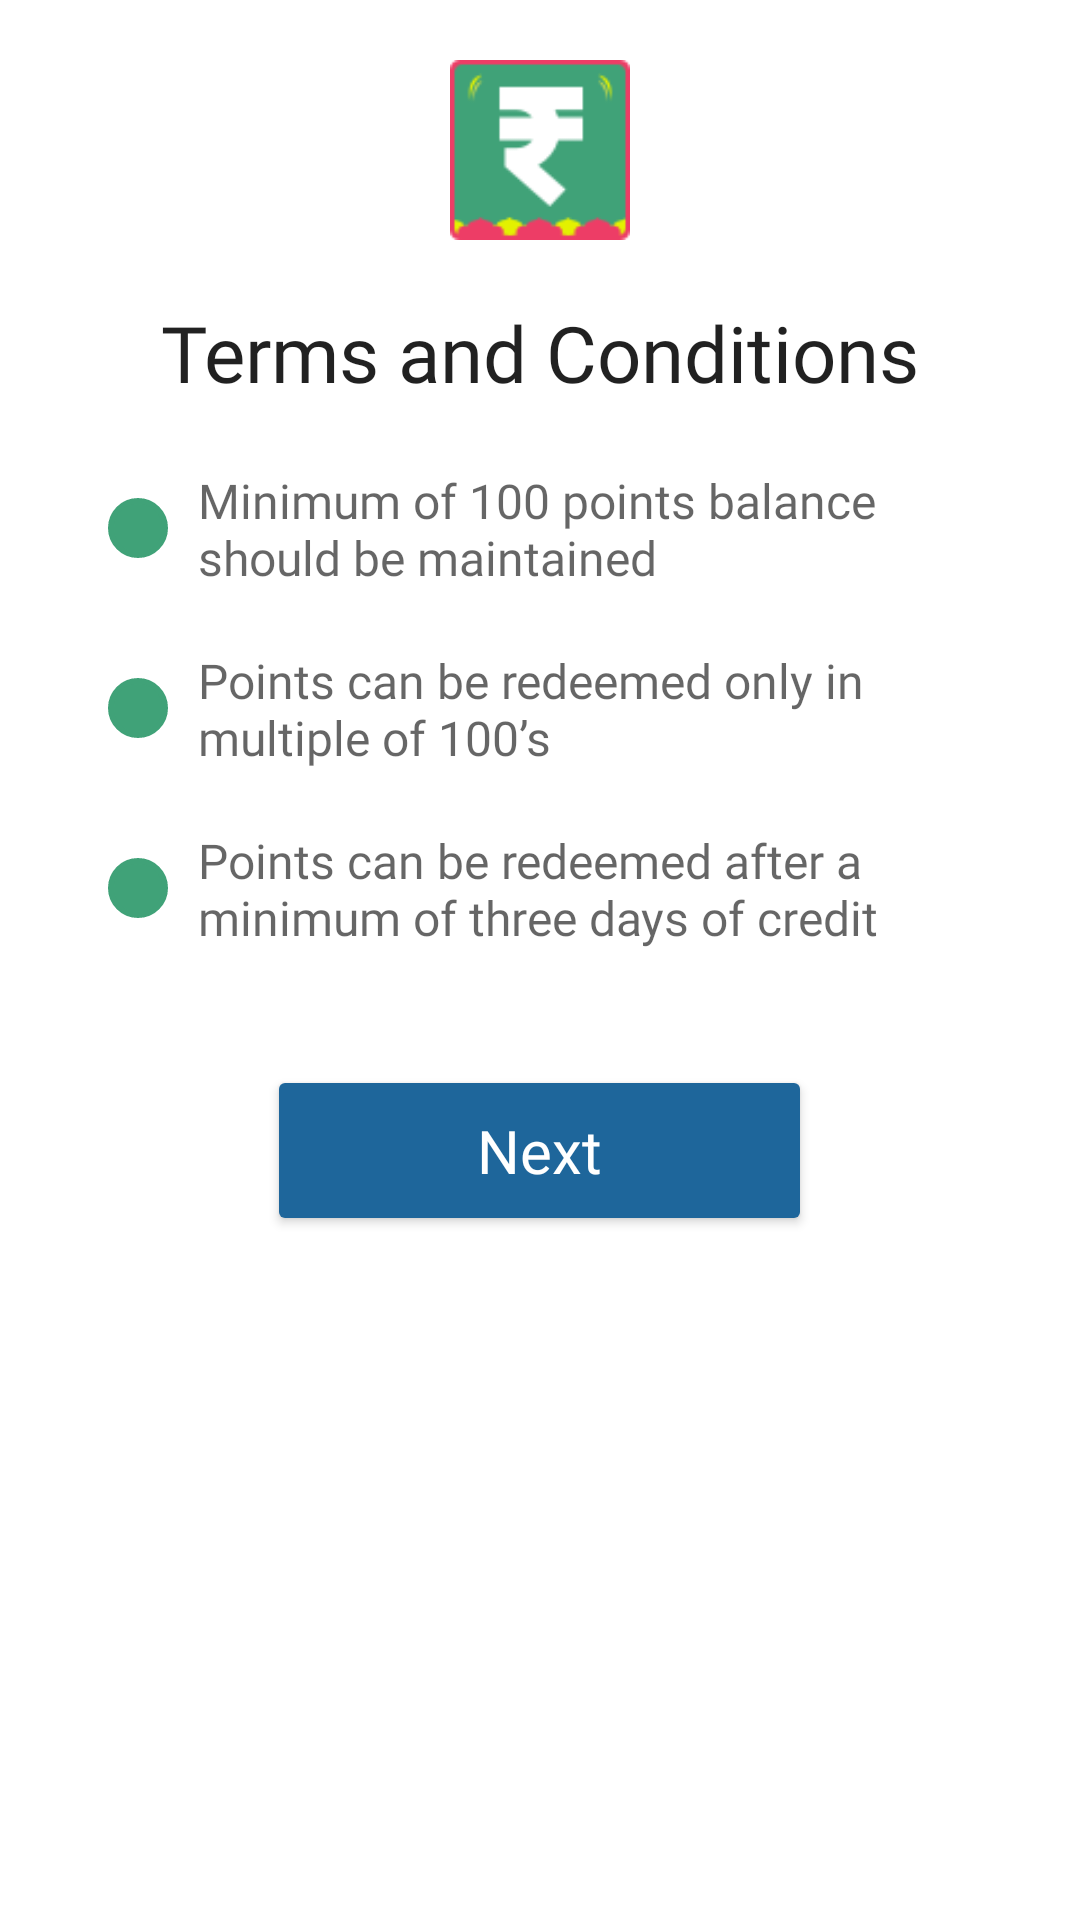

Icons on this 1080w x 1920h Android screen, each with its box as {"left": x1, "top": y1, "right": x2, "bottom": y2}:
bullet: {"left": 108, "top": 498, "right": 168, "bottom": 558}, {"left": 108, "top": 678, "right": 168, "bottom": 738}, {"left": 108, "top": 858, "right": 168, "bottom": 918}
